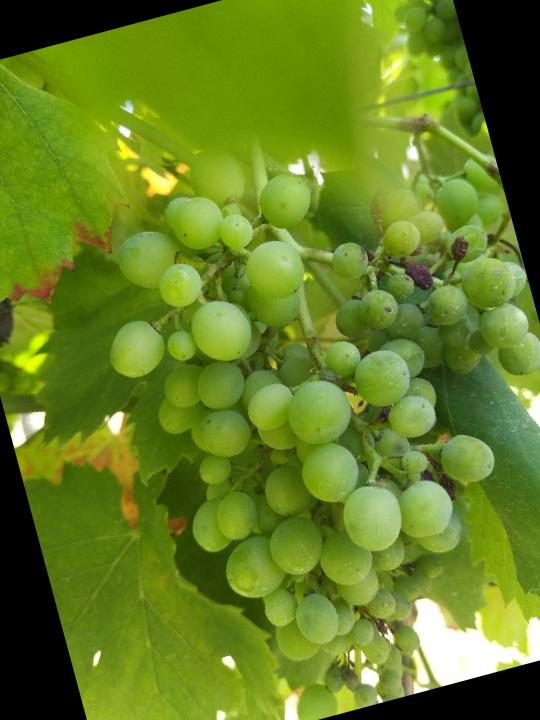grape: (55, 72, 540, 699)
